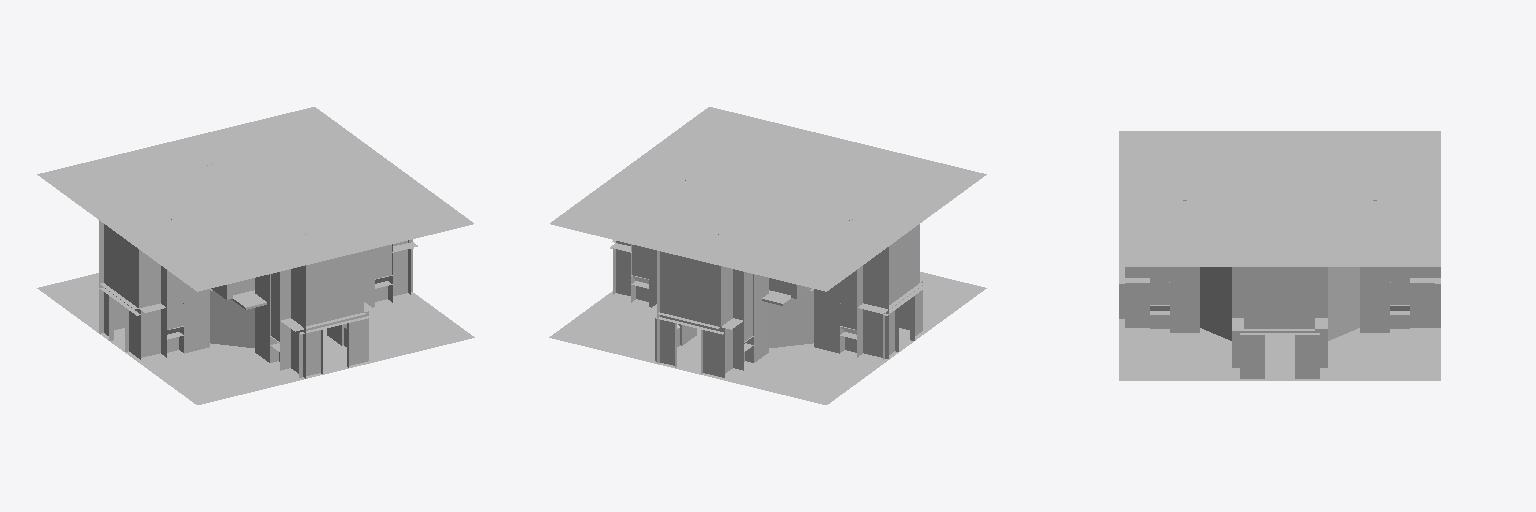
File: LC_room4.obj
The picture shows the model from 3 angles: view 1: azimuth 30°, elevation 25°; view 2: azimuth 150°, elevation 25°; view 3: azimuth 270°, elevation 25°; orthographic projection.
Visible parts, largest first — view 1: LC_room4; view 2: LC_room4; view 3: LC_room4.
Boxes of the visible parts, x1=… form: LC_room4: x1=37, y1=107, x2=474, y2=404; LC_room4: x1=549, y1=107, x2=986, y2=404; LC_room4: x1=1119, y1=131, x2=1440, y2=380.
Bounding box in the file's own units: 20.48 × 8.01 × 20.48.